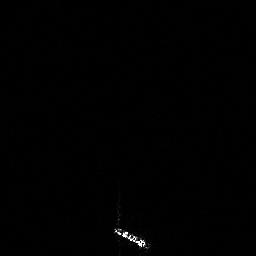ship: (109, 224, 151, 252)
